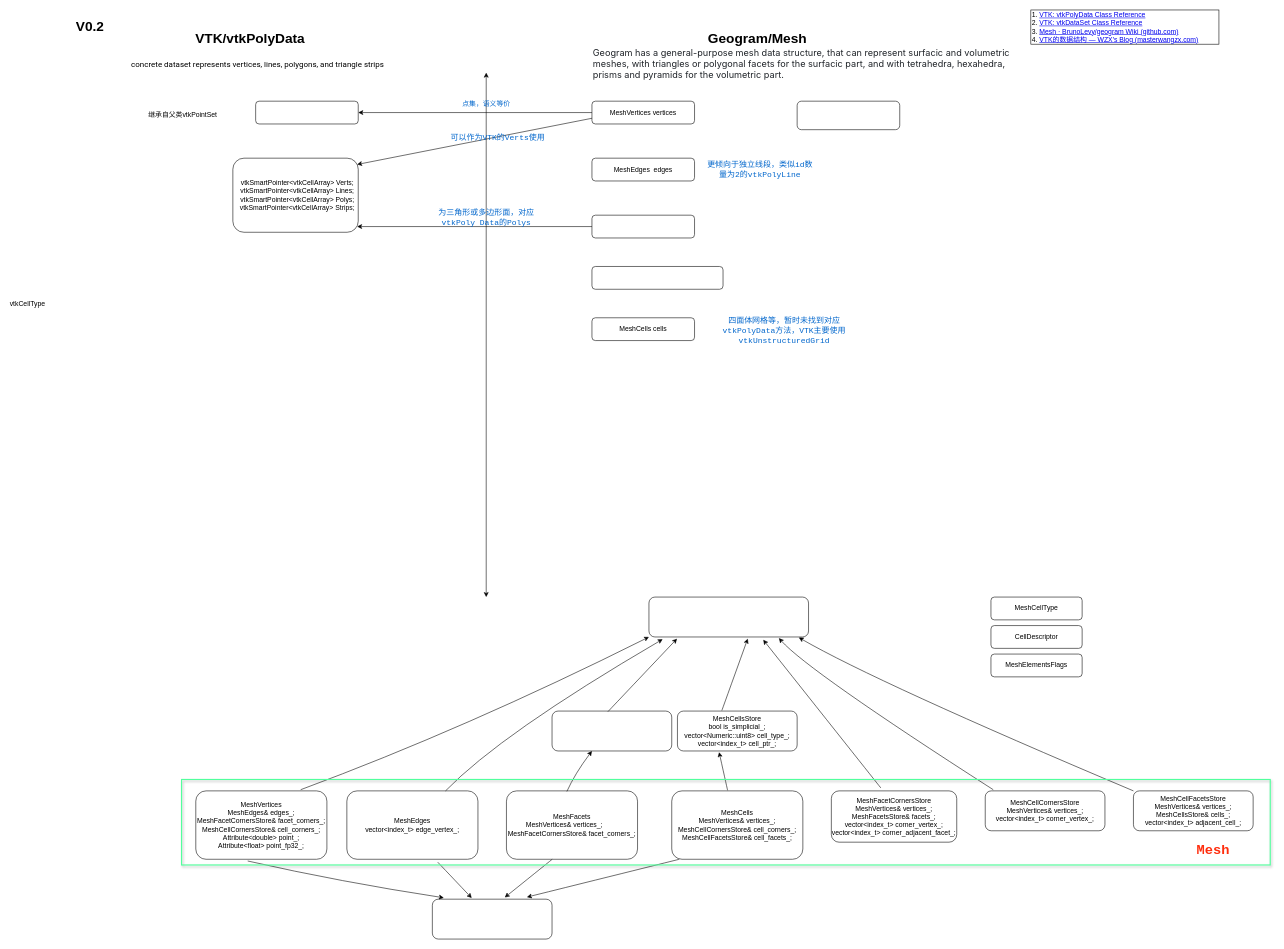
Image size: 1284x949. Some labels were removed from this diagram. Each missing label, with the centre of its shape:
"MeshElements = 0 vertices, facets and cells" belongs at point (492, 919).
"MeshFacetCornersStore facet_corners" belongs at point (657, 277).
"MeshFacets facets" belongs at point (643, 226).
"MeshFacetsStore bool is_simplicial_; vector<index_t> facet_ptr_;" belongs at point (611, 731).
"MeshSubElementsStore Mesh& mesh_; AttributesManager attributes_; index_t nb_;" belongs at point (728, 617).
"vtkPoints* Points" belongs at point (306, 112).
"派生vtkFloatArray，然后把MeshVertices的数据指针赋给vtkFloatArray的底层数据内存" belongs at point (848, 115).
